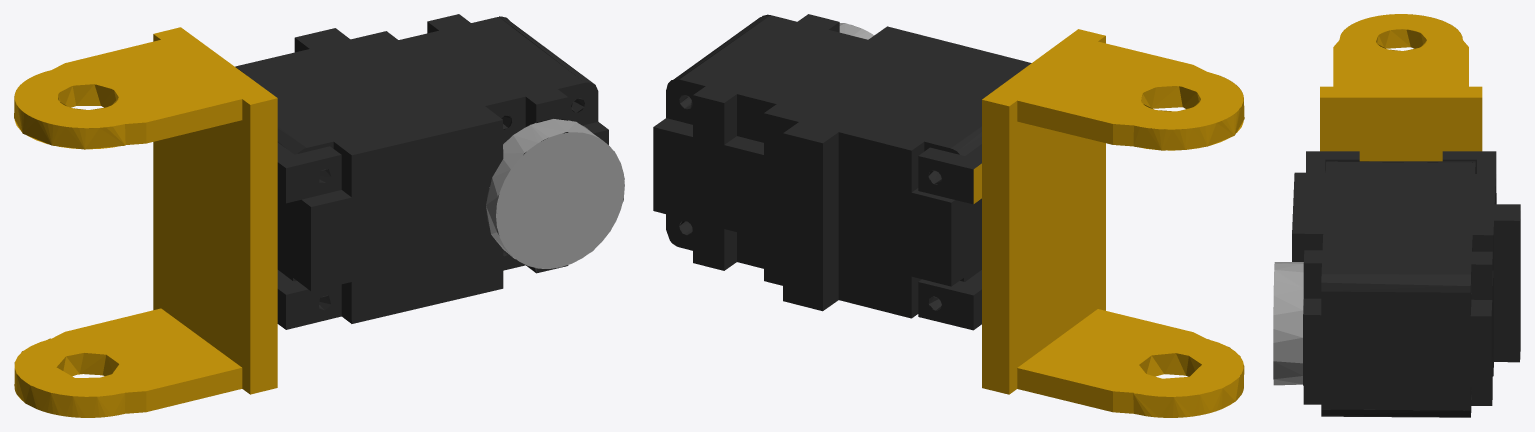
Rendered from coxa.dae.
The picture shows the model from 3 angles, left to right: view 1: azimuth 30°, elevation 25°; view 2: azimuth 150°, elevation 25°; view 3: azimuth 270°, elevation 25°; orthographic projection. The views are drawn at different scales.
Visible parts, largest first — view 1: coxa; view 2: coxa; view 3: coxa.
Part boxes in pixels (left/top/right/bottom): coxa: left=14, top=14, right=624, bottom=417; coxa: left=653, top=14, right=1244, bottom=417; coxa: left=1273, top=14, right=1520, bottom=417.
Bounding box in the file's own units: 0.079 × 0.0381 × 0.0412.
